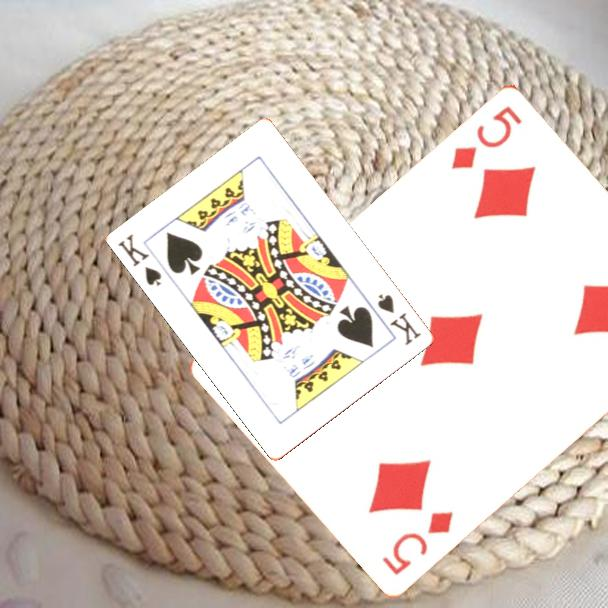d05: (378, 507, 456, 578), (448, 101, 525, 172)
s13: (115, 230, 165, 289), (374, 290, 424, 348)
